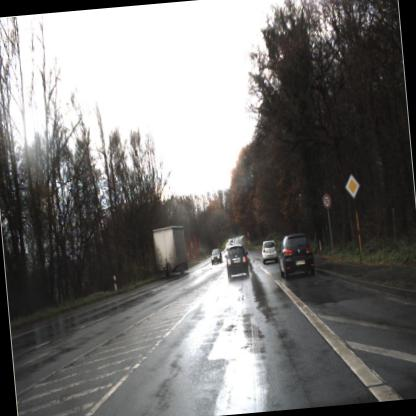other: (339, 168, 363, 204)
prohibitory: (320, 192, 336, 212)
